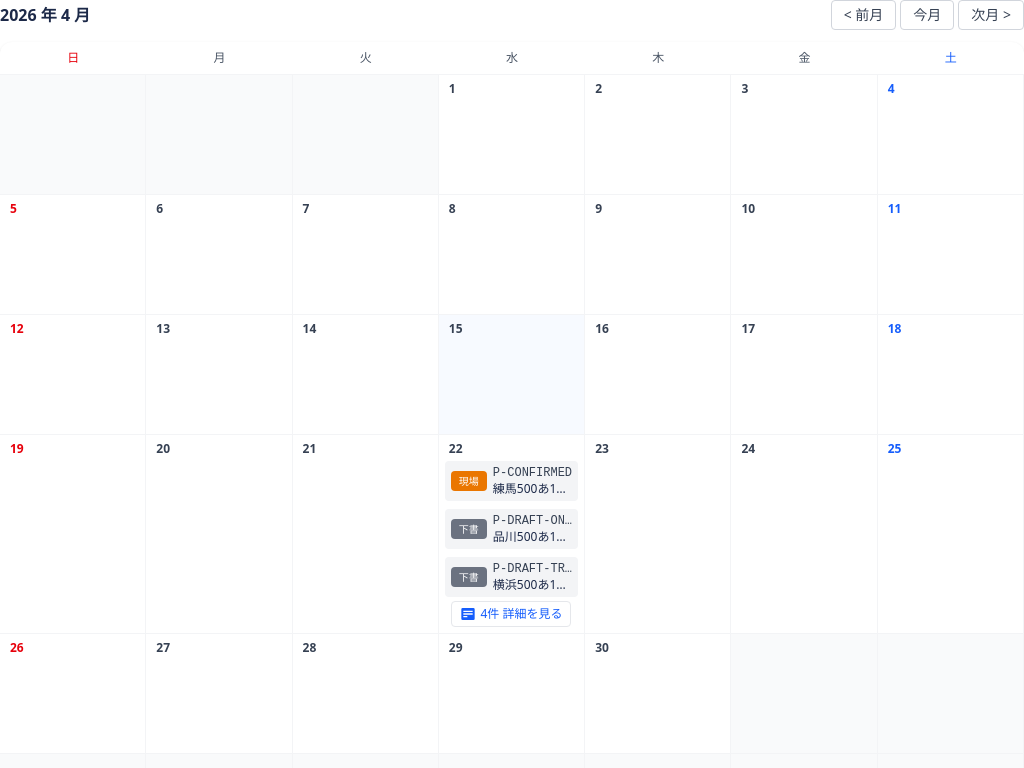
Test: DispatchCalendar › PC: 下書き行は data-kind="draft" / ラベル「下書」 / 背景 #6b7280 になる（type/kind より優先）
Expected: the number of list items with test id "calendar-dispatch" is 3, [445,461,578,501]; [445,509,578,549]; [445,557,578,597]
Expected: the list item with test id "calendar-dispatch" shows "P-CONFIRMED", [493,466,572,480]
Click the button with test id "calendar-cell-pc-detail-button" at (512, 614), box [452,601,572,627]
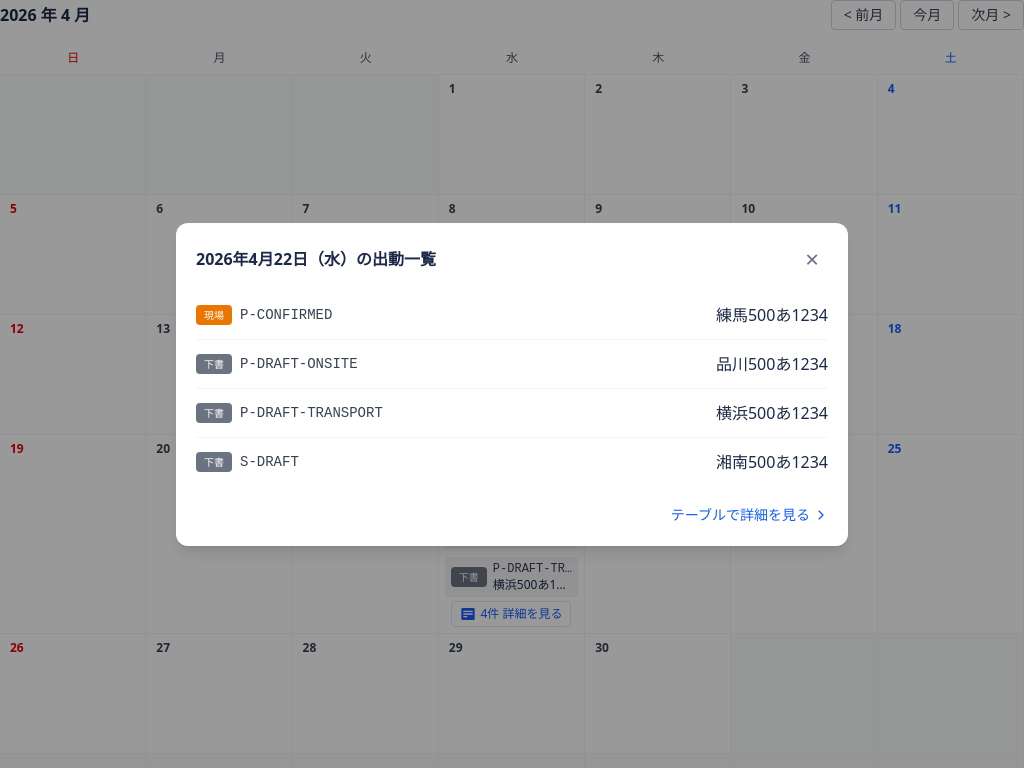
Now the element with test id "calendar-modal" is shown
Now the text with test id "calendar-row-kind-badge" reads "下書", box [204,454,224,468]
